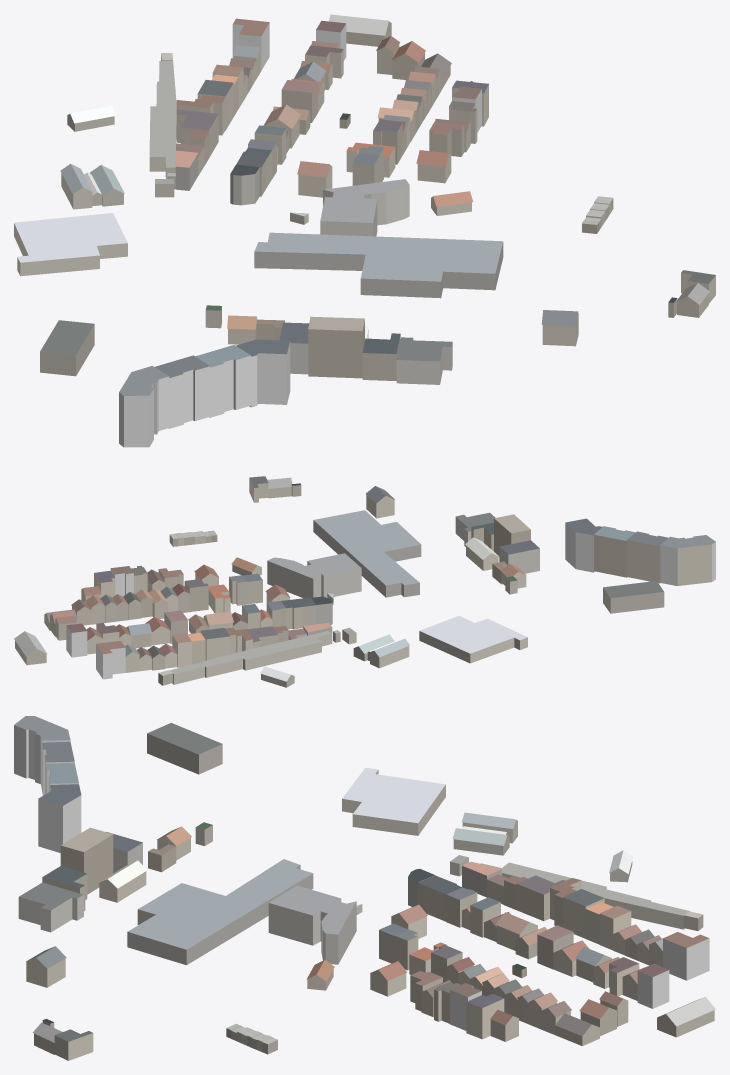
The picture shows the model from 3 angles, top to bottom: view 1: azimuth 30°, elevation 25°; view 2: azimuth 150°, elevation 25°; view 3: azimuth 270°, elevation 25°; orthographic projection. The views are drawn at different scales.
Visible parts, largest first — view 1: tuile; view 2: tuile; view 3: tuile.
Part boxes in pixels (box(x1,y1,x2,y2)): tuile: box(14, 14, 715, 447); tuile: box(14, 476, 715, 687); tuile: box(14, 716, 715, 1060).
Size of the model in its own units: 258 by 26.1 by 264.
